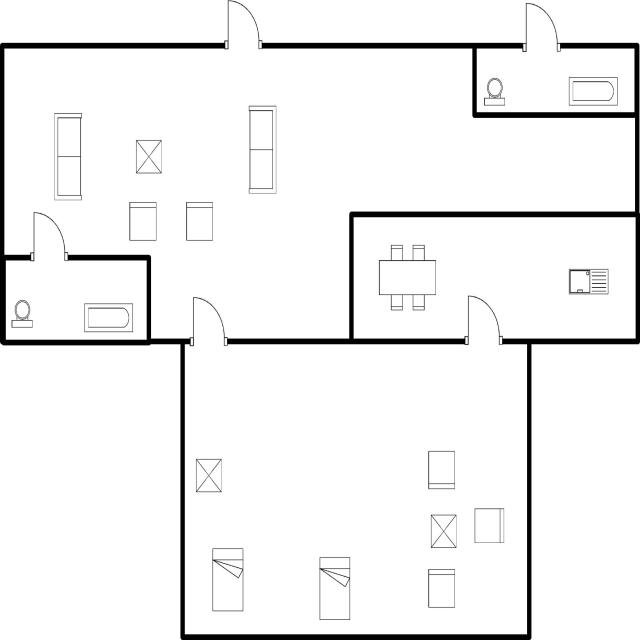bed: (208, 542, 248, 617), (314, 552, 354, 625)
coffee_table: (190, 454, 226, 498), (425, 509, 459, 553), (133, 134, 164, 180)
dining_table: (372, 238, 440, 317)
large_sink: (481, 74, 508, 108), (10, 296, 36, 331)
large_sofa: (244, 101, 278, 198), (51, 108, 85, 204)
sink: (564, 265, 613, 301)
small_sofa: (423, 445, 459, 495), (181, 197, 216, 248), (126, 198, 160, 246), (471, 504, 507, 548), (424, 565, 457, 613)
tub: (565, 72, 622, 109), (79, 299, 137, 335)
